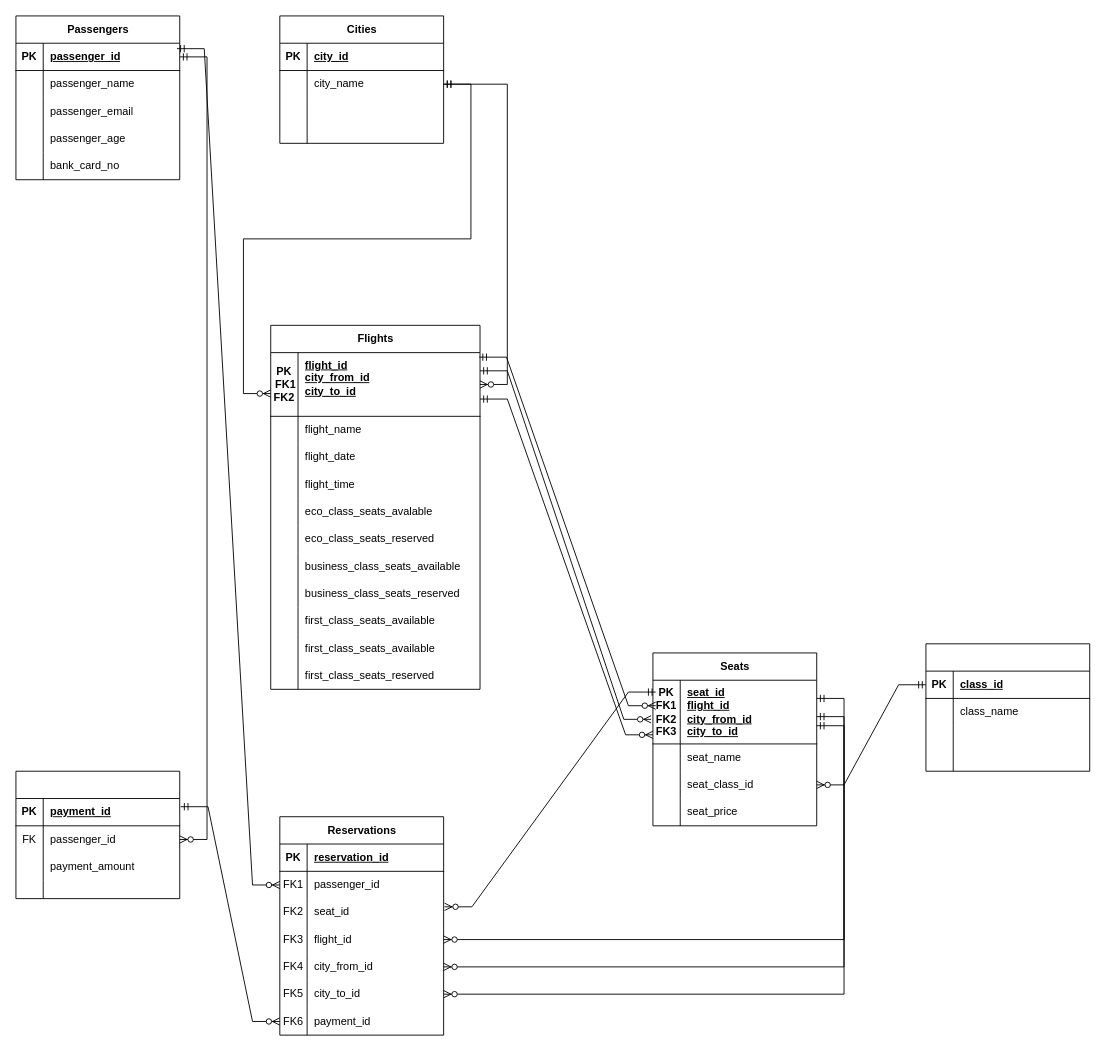
Some shapes in this 1106 by 1051 pixel diagram are drawn without their labels. Each missing label, with the box of its shape:
Payments: (15, 770, 180, 899)
Seat_Classes: (925, 643, 1090, 771)
